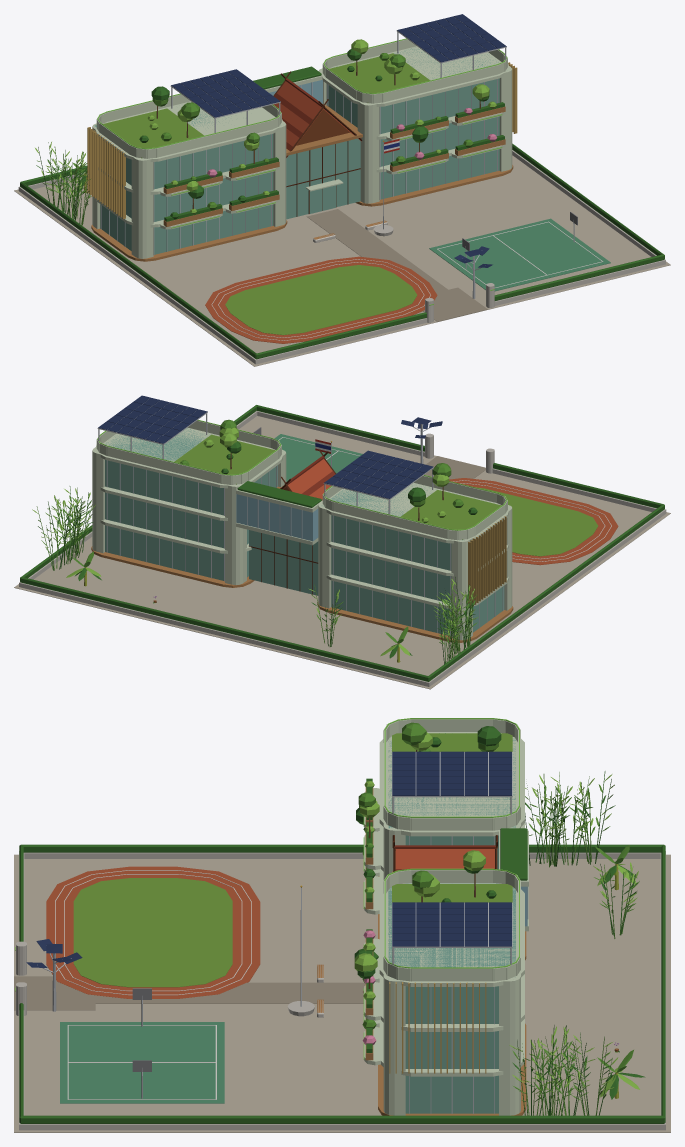
The model's file is school.glb.
The picture shows the model from 3 angles, top to bottom: view 1: azimuth 30°, elevation 25°; view 2: azimuth 150°, elevation 25°; view 3: azimuth 270°, elevation 25°; orthographic projection. The views are drawn at different scales.
Parts seen in each view (by area): view 1: body, windows; view 2: body, windows; view 3: body, windows.
Boxes of the visible parts, x1,y1,x2,y2 form: body: (14, 14, 670, 366); windows: (97, 38, 507, 305); body: (14, 395, 670, 689); windows: (97, 420, 507, 530); body: (14, 719, 670, 1132); windows: (15, 718, 519, 1059).
Bounding box in the file's own units: 48.98 × 15.2 × 47.9.
